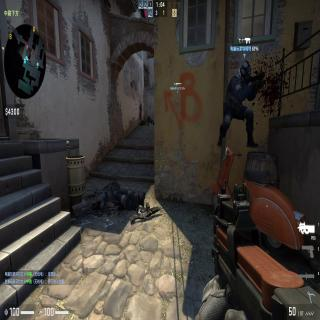CT-Body: (217, 56, 265, 150)
CT-Head: (240, 59, 252, 82)
